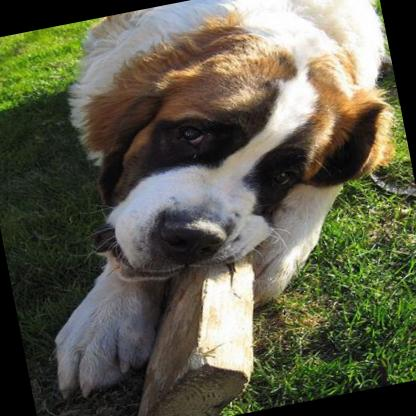Saint_Bernard: (0, 0, 416, 403)
